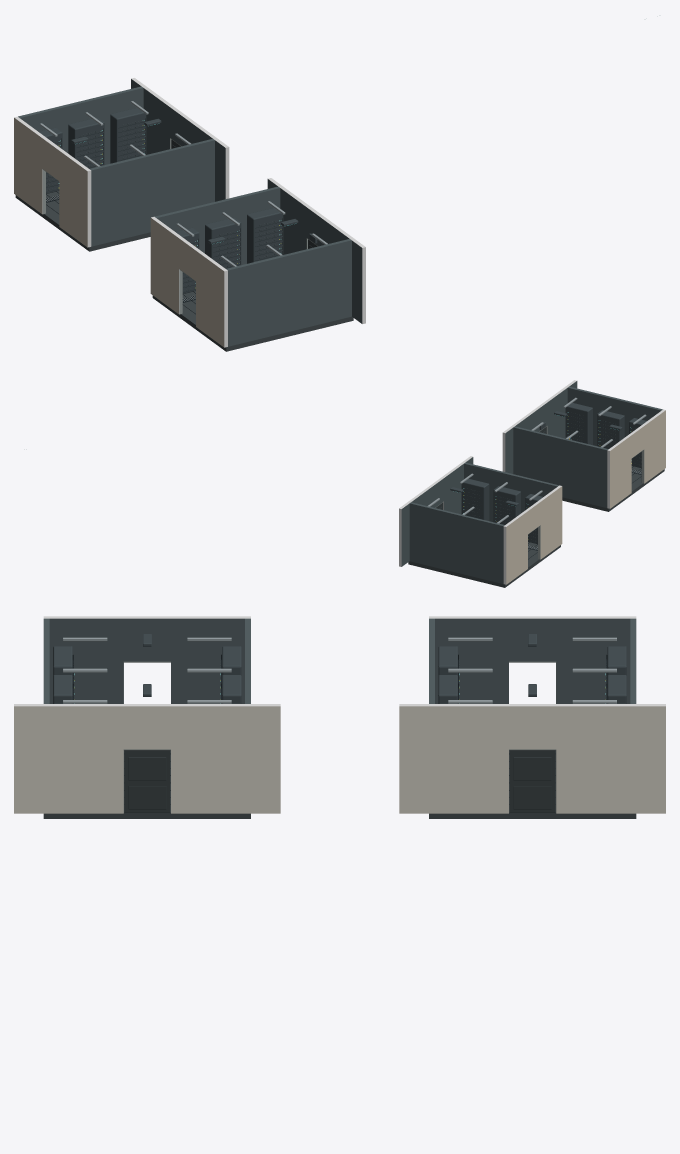
The model's file is R4_MAP_Basic.fbx.
3 views of the same model, one above another, from view 1: azimuth 30°, elevation 25°; view 2: azimuth 150°, elevation 25°; view 3: azimuth 270°, elevation 25° (orthographic). The views are drawn at different scales.
Visible parts, largest first — view 1: South wall.003, South wall.010, North wall.010, North wall.003, East wall south.009, East wall south.002, East wall north.002, East wall north.009, B server cabinet.005, A server cabinet.005, East wall south.003, East wall north.003 (+10 smaller); view 2: North wall.010, North wall.003, South wall.003, South wall.010, East wall north.002, East wall north.009, East wall south.009, East wall south.002, B server cabinet.002, A server cabinet.002, East wall north.010, East wall south.003 (+9 smaller); view 3: East wall north.003, East wall north.010, East wall south.003, East wall south.010, East wall north.009, East wall south.002, East wall north.002, East wall south.009, East lintel.003, East lintel.010, East lintel.002, East lintel.009 (+8 smaller).
Part boxes in pixels (x1,y1,x2,y2): South wall.003: (226, 239, 351, 346); South wall.010: (89, 139, 214, 246); North wall.010: (18, 86, 143, 164); North wall.003: (155, 186, 280, 264); East wall south.009: (59, 149, 91, 247); East wall south.002: (196, 250, 227, 347); East wall north.002: (150, 216, 182, 314); East wall north.009: (14, 116, 45, 214); B server cabinet.005: (110, 108, 146, 163); A server cabinet.005: (247, 208, 283, 263); East wall south.003: (323, 218, 365, 324); East wall north.003: (267, 178, 309, 254); North wall.010: (409, 502, 504, 583); North wall.003: (513, 426, 608, 507); South wall.003: (567, 386, 662, 445); South wall.010: (464, 462, 558, 522); East wall north.002: (607, 434, 631, 508); East wall north.009: (503, 510, 527, 584); East wall south.009: (538, 485, 562, 559); East wall south.002: (642, 409, 665, 483); B server cabinet.002: (461, 479, 489, 520); A server cabinet.002: (565, 403, 592, 445); East wall north.010: (399, 487, 431, 566); East wall south.003: (545, 380, 577, 438); East wall north.003: (171, 704, 280, 813); East wall north.010: (556, 704, 665, 813); East wall south.003: (14, 704, 123, 813); East wall south.010: (399, 704, 508, 813); East wall north.009: (556, 616, 636, 703); East wall south.002: (43, 616, 123, 703); East wall north.002: (171, 616, 250, 703); East wall south.009: (429, 616, 508, 703); East lintel.003: (123, 704, 170, 749); East lintel.010: (509, 704, 556, 749); East lintel.002: (123, 616, 170, 661); East lintel.009: (509, 616, 556, 661).
Bounding box in the file's own units: 3570 × 424 × 2200.
